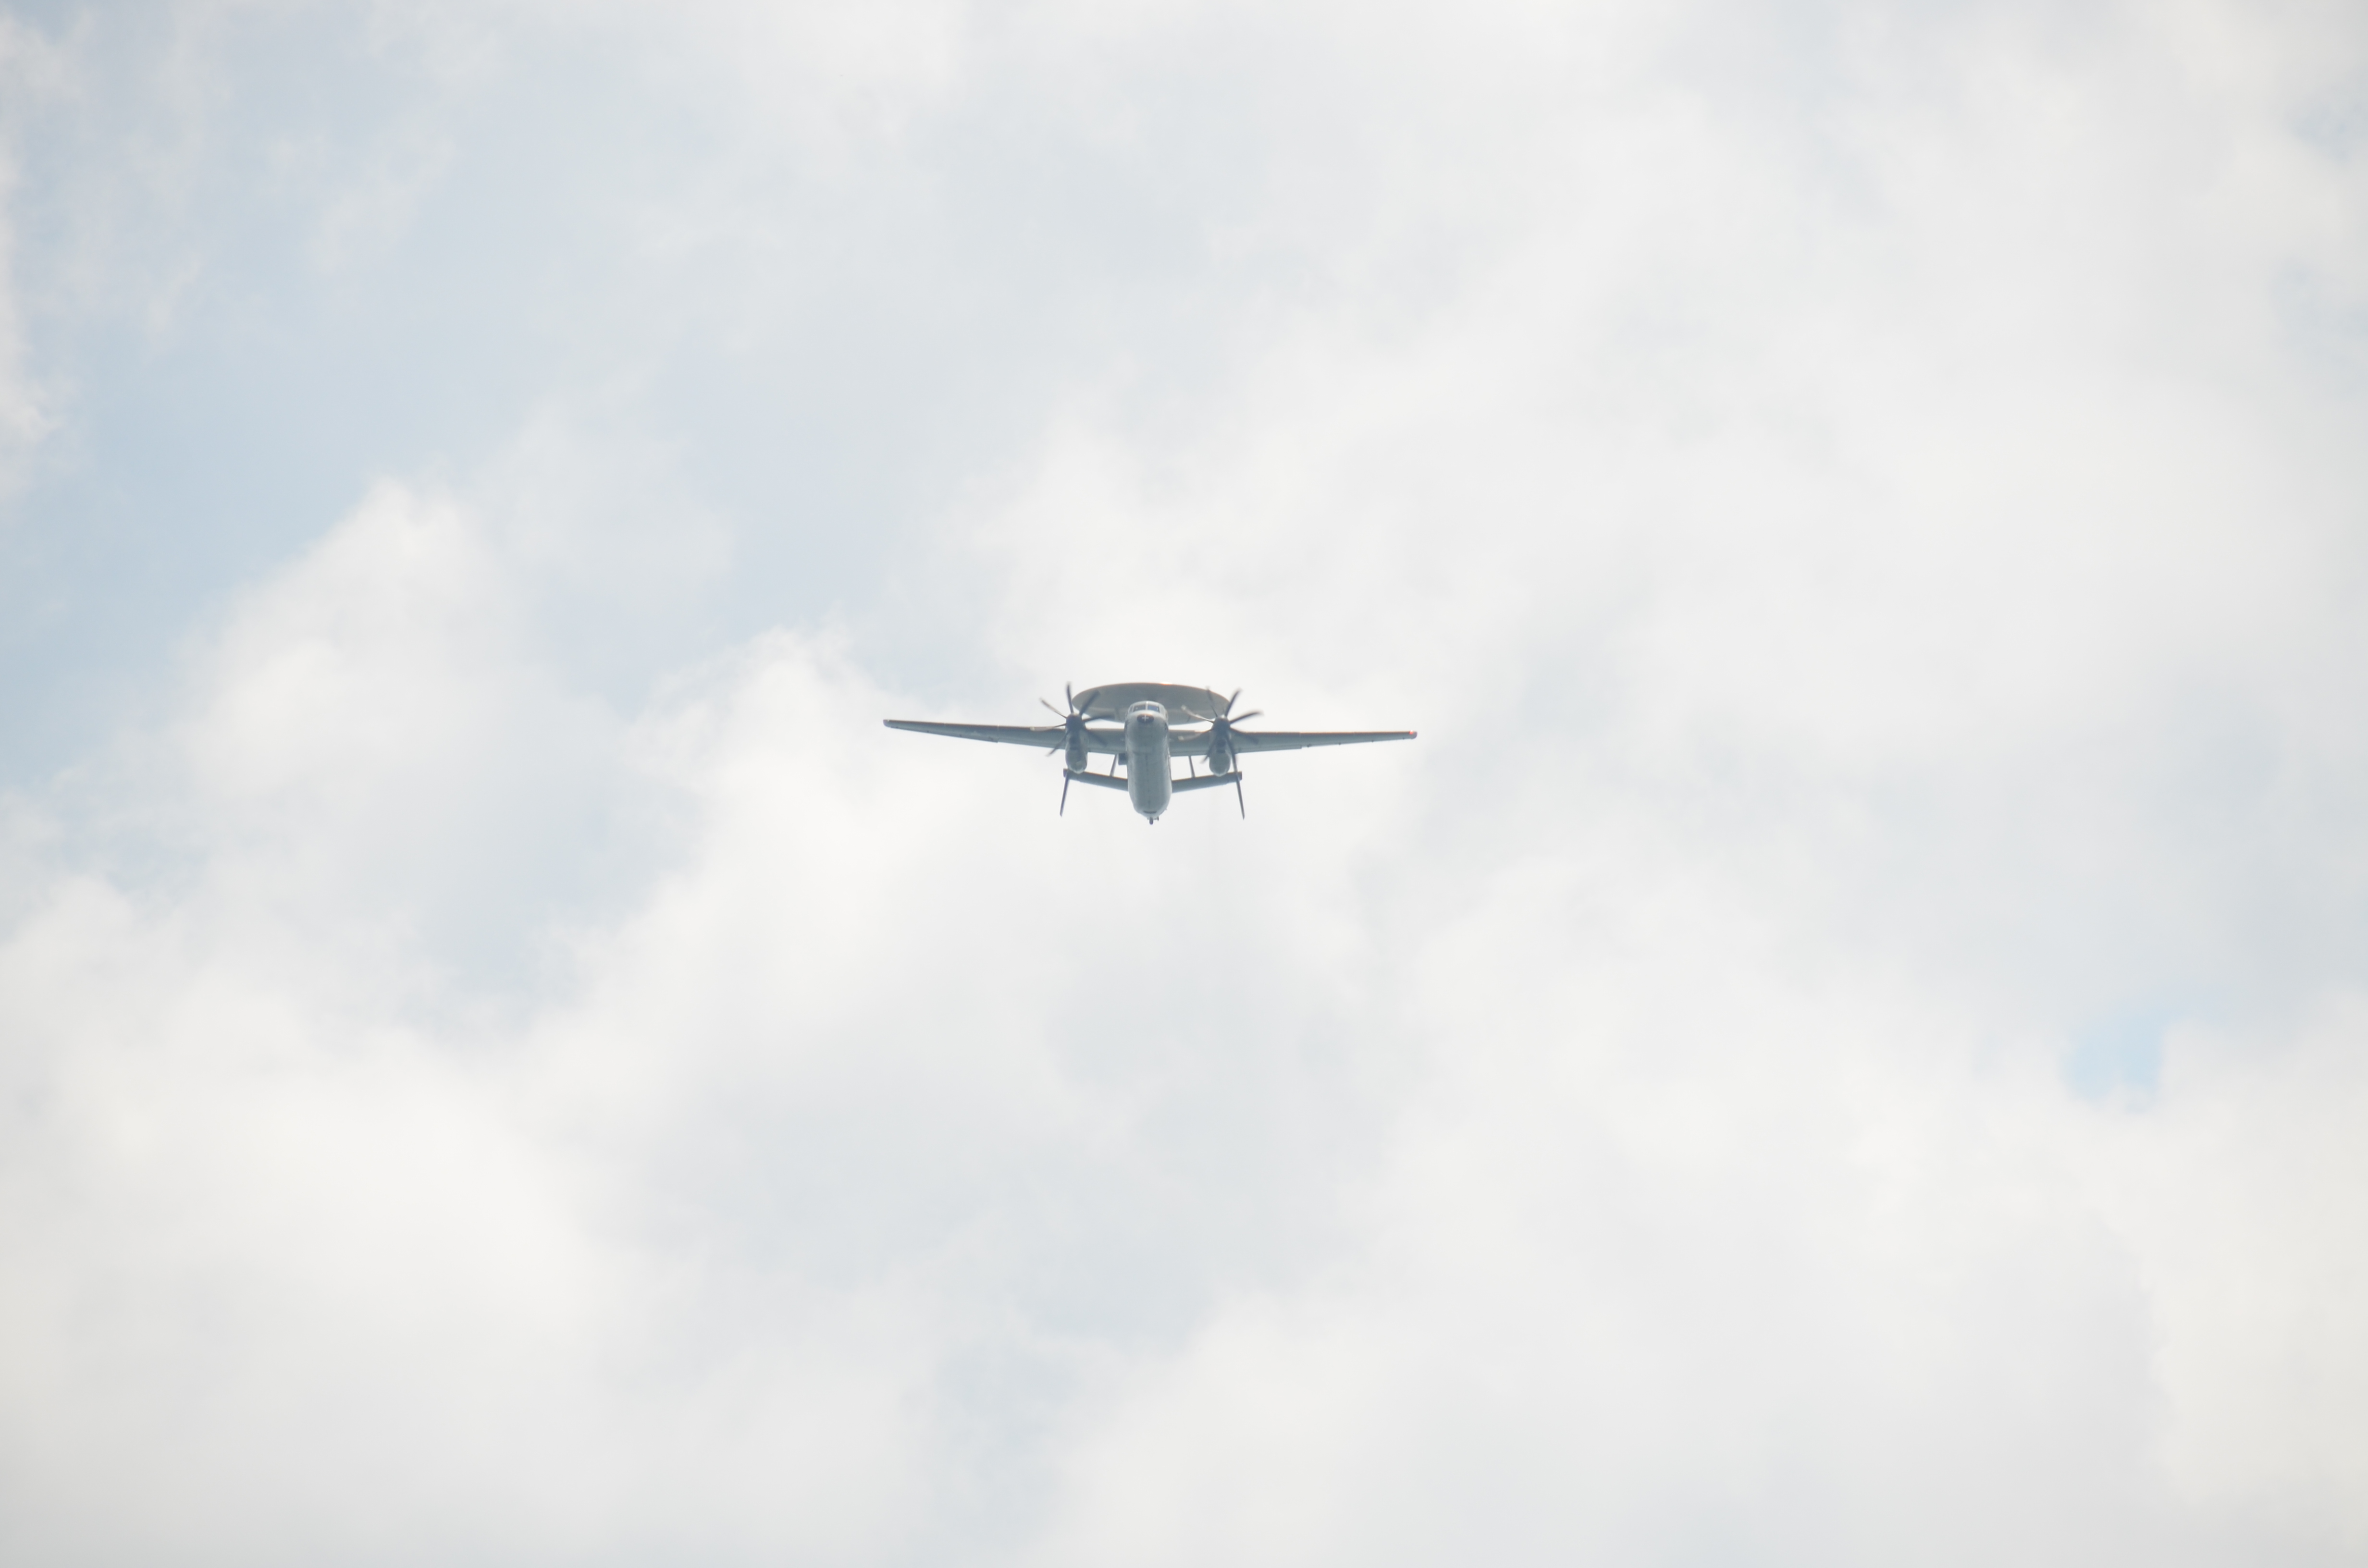E2: (882, 679, 1418, 824)
